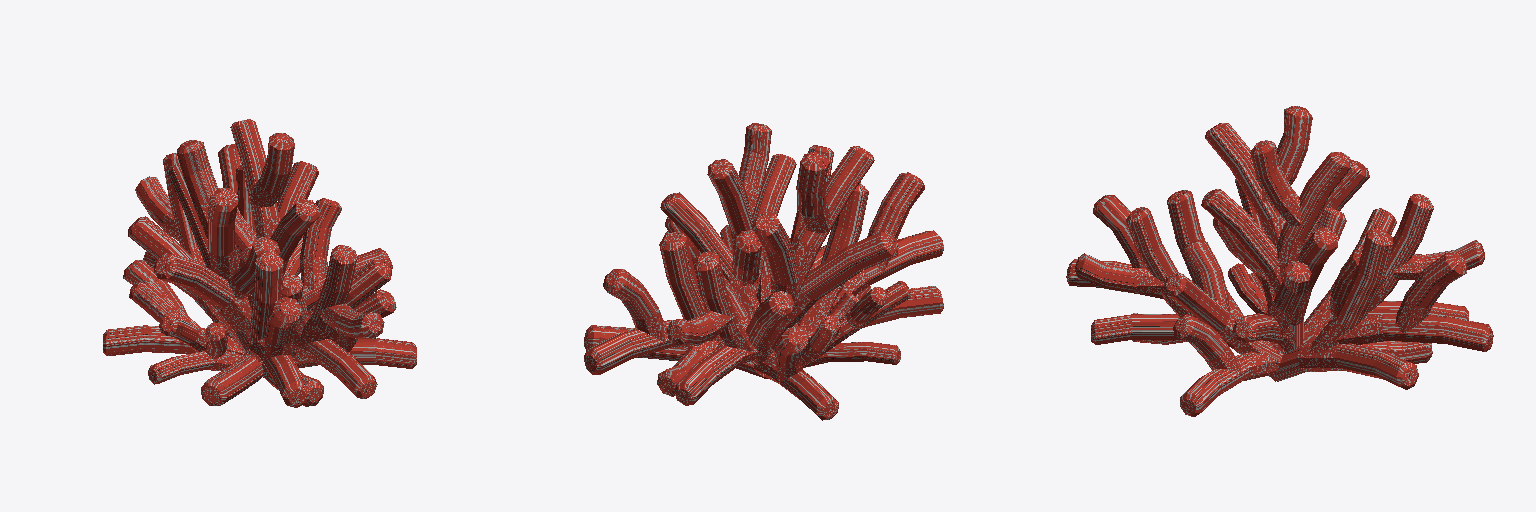
3 views of the same model, side by side, from view 1: azimuth 30°, elevation 25°; view 2: azimuth 150°, elevation 25°; view 3: azimuth 270°, elevation 25° (orthographic).
Parts seen in each view (by area): view 1: Cylinder; view 2: Cylinder; view 3: Cylinder.
Boxes of the visible parts, x1=… form: Cylinder: x1=103, y1=119, x2=416, y2=407; Cylinder: x1=584, y1=123, x2=943, y2=420; Cylinder: x1=1066, y1=106, x2=1493, y2=416.
Bounding box in the file's own units: 4.37 × 4.2 × 6.64.
1 materials, 1 textured.